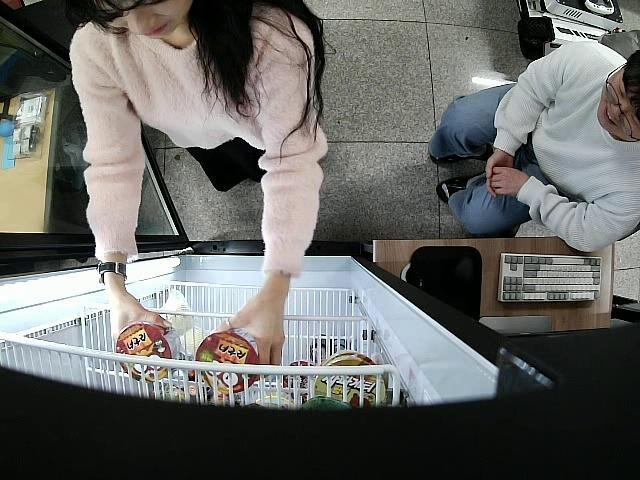06_nuguri_S: (114, 322, 182, 384), (196, 330, 260, 394)
